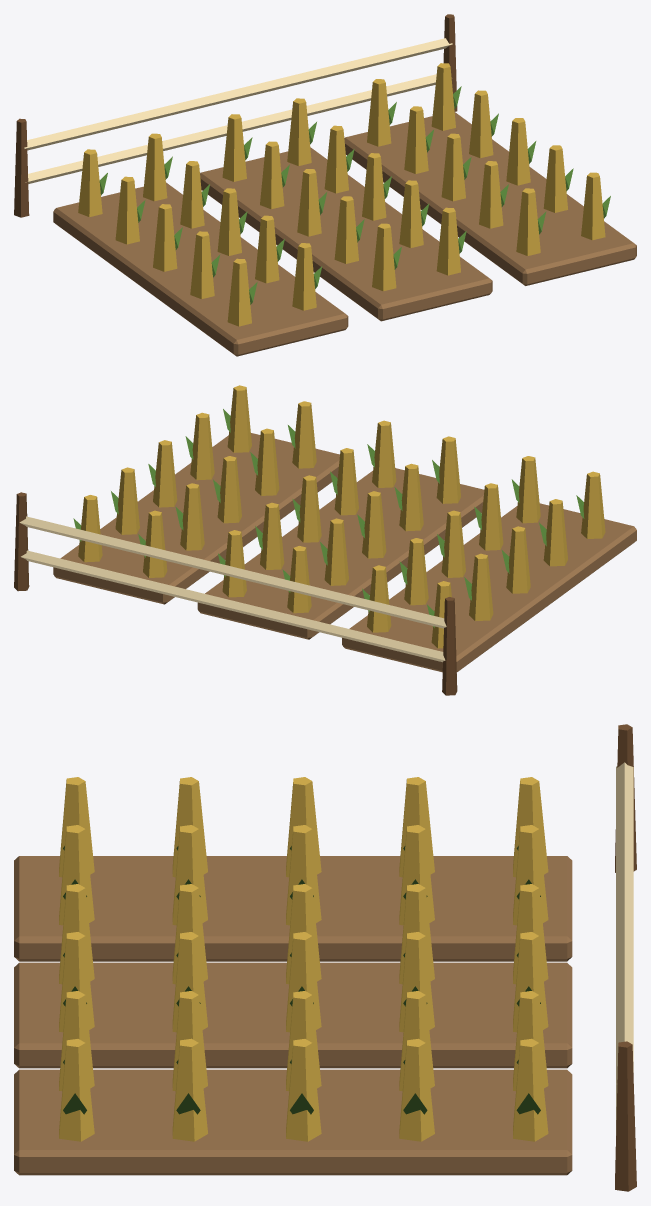
The model's file is imp_farm.glb.
3 renders of one model, top to bottom at view 1: azimuth 30°, elevation 25°; view 2: azimuth 150°, elevation 25°; view 3: azimuth 270°, elevation 25°, orthographic. The views are drawn at different scales.
Visible parts, largest first — view 1: imp_farm; view 2: imp_farm; view 3: imp_farm.
Part boxes in pixels (left/top/right/bottom): imp_farm: left=14, top=14, right=636, bottom=356; imp_farm: left=14, top=385, right=636, bottom=695; imp_farm: left=14, top=724, right=636, bottom=1191.
Size of the model in its own units: 0.8866 by 0.18 by 0.714.
